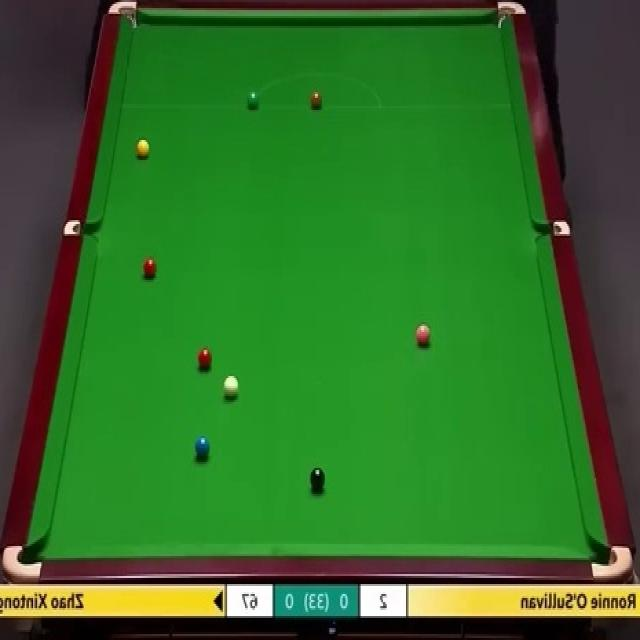pocket: (0, 542, 43, 584), (592, 543, 630, 585), (490, 2, 524, 36), (108, 0, 138, 32), (64, 218, 100, 237), (535, 220, 573, 235)
